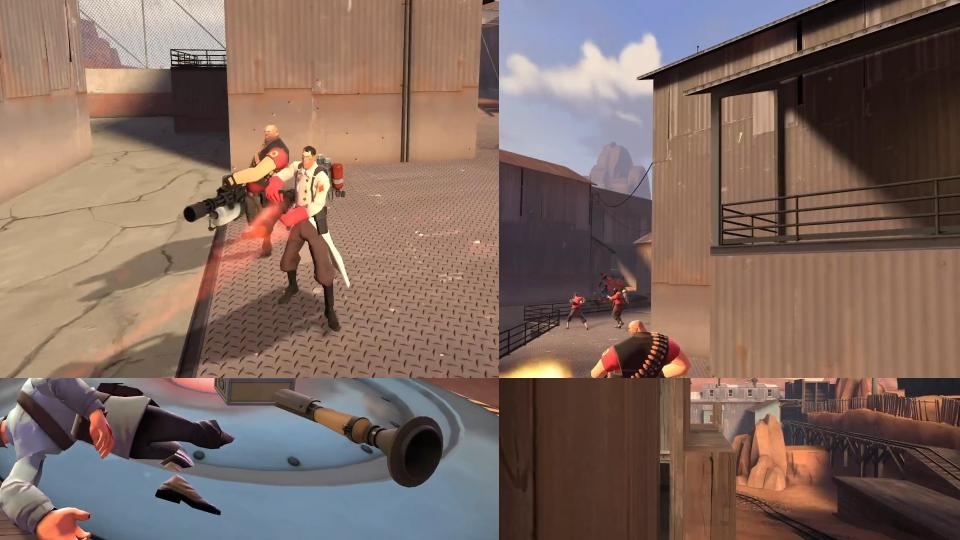Enemy: (0, 378, 236, 540), (255, 145, 352, 334), (182, 124, 291, 258), (562, 316, 694, 378), (605, 287, 634, 330), (564, 292, 592, 333)
